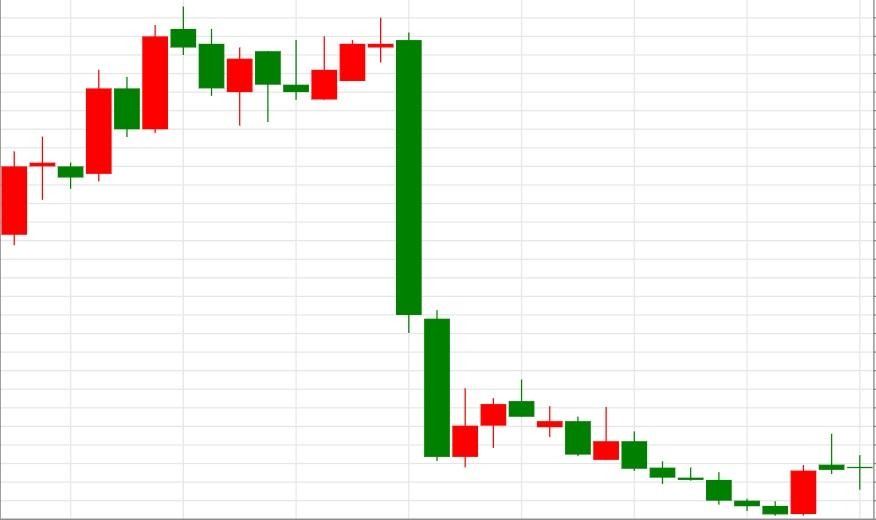evening_star_fall: (283, 17, 423, 332)
